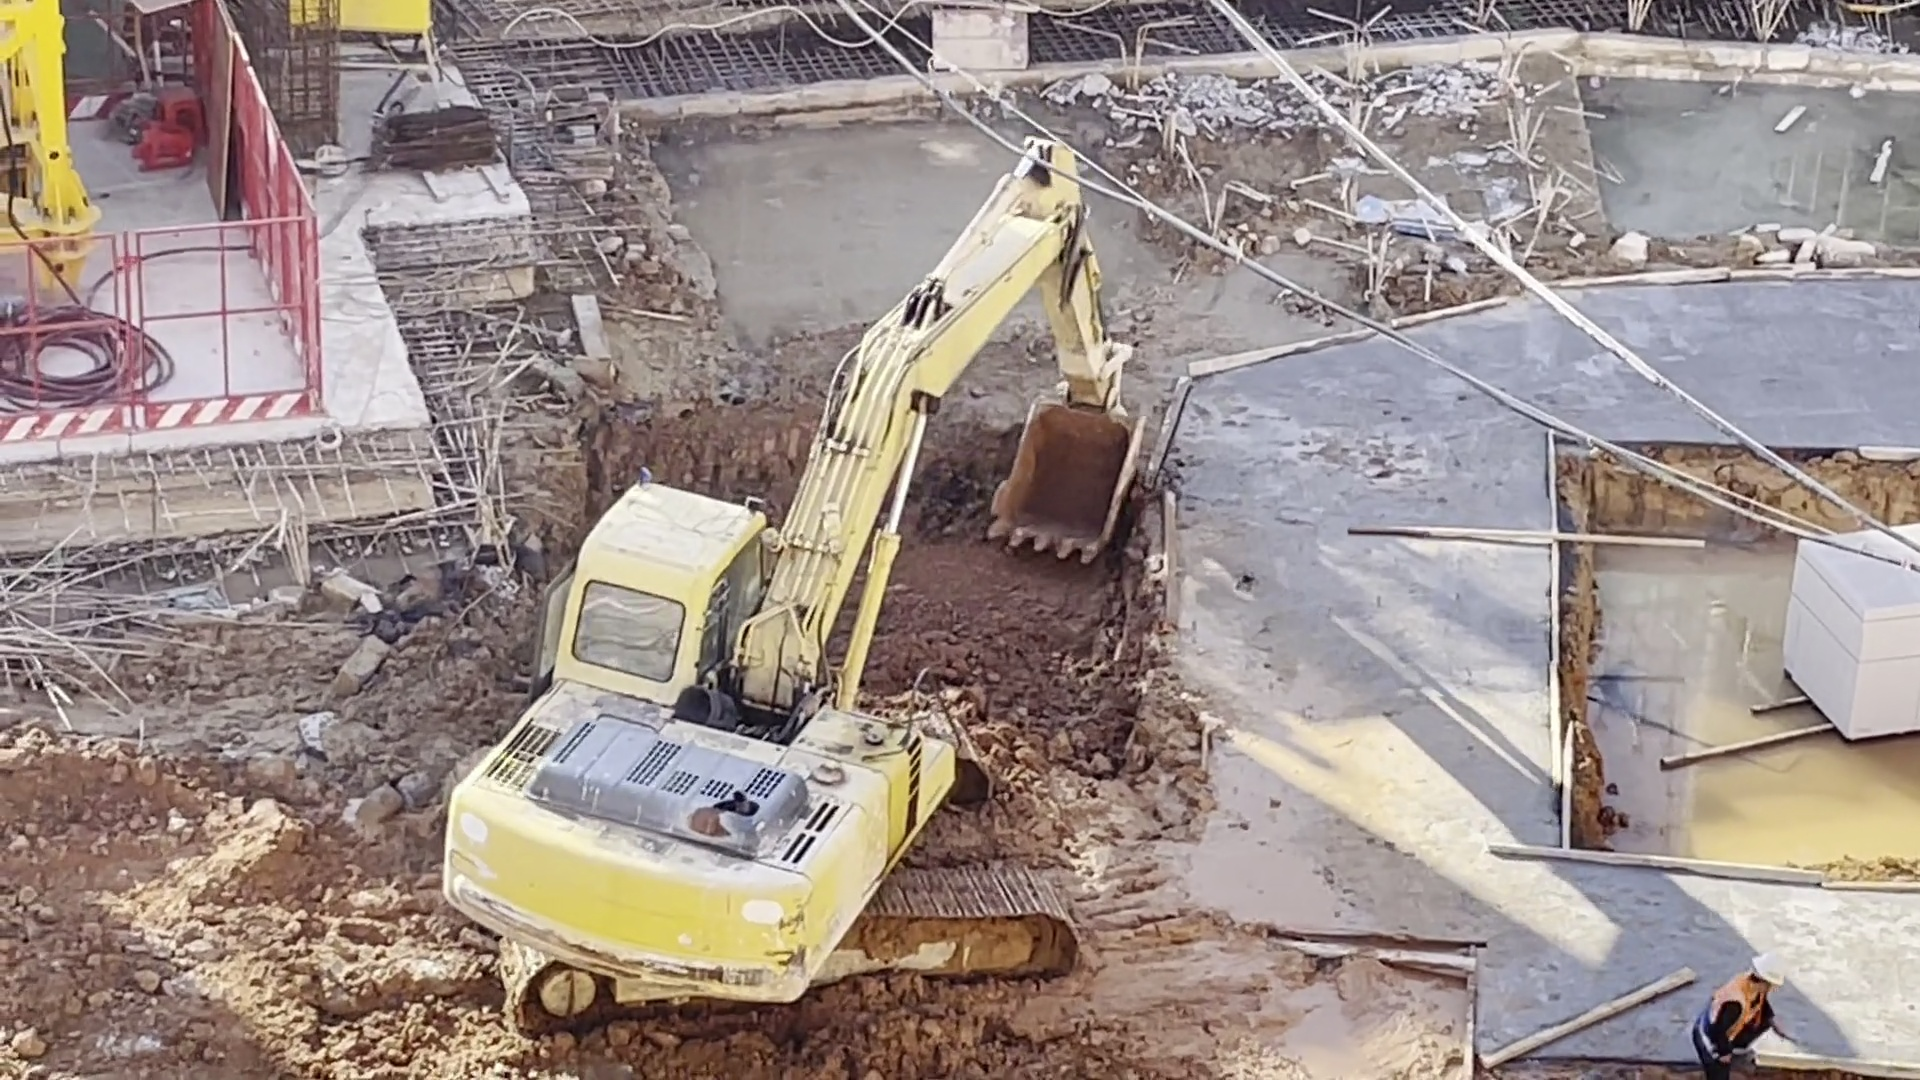brick: (1772, 583, 1920, 741)
ebox: (343, 4, 459, 116)
fence: (15, 219, 319, 428), (233, 56, 322, 415)
helmet: (1747, 949, 1796, 991)
person: (1682, 950, 1792, 1071)
vest: (1696, 972, 1767, 1057)
